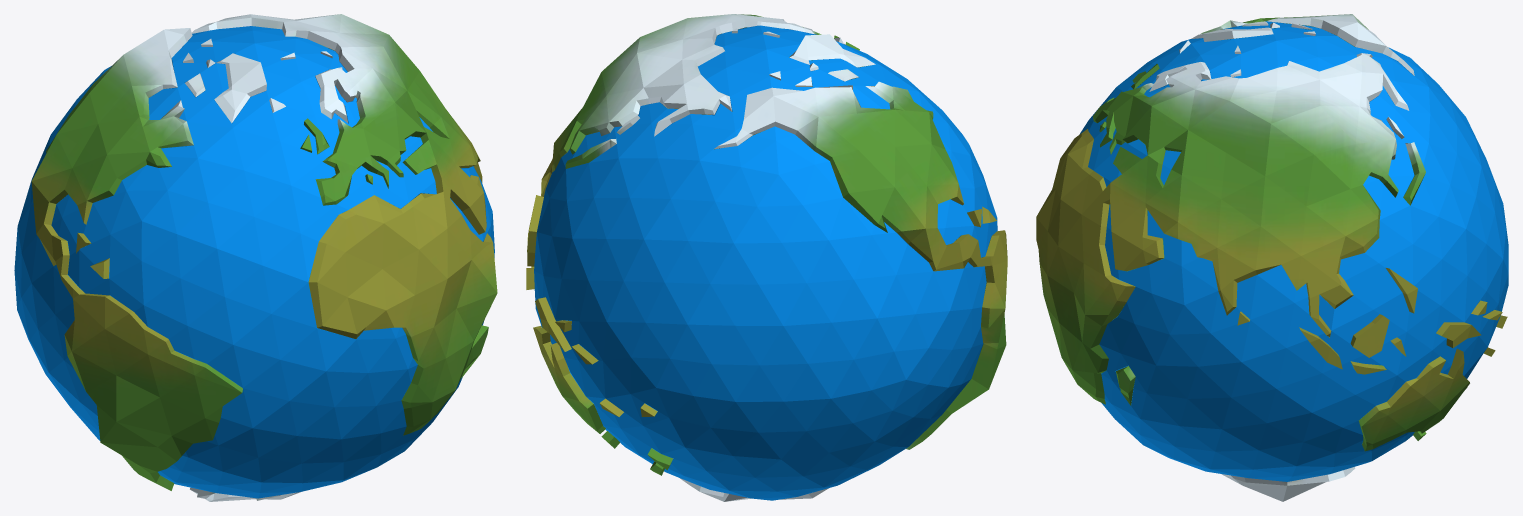
File: earth-transformed.glb
The picture shows the model from 3 angles, left to right: view 1: azimuth 30°, elevation 25°; view 2: azimuth 150°, elevation 25°; view 3: azimuth 270°, elevation 25°; orthographic projection. The views are drawn at different scales.
Parts seen in each view (by area): view 1: earth4_blinn1_0, earth4_lambert1_0; view 2: earth4_blinn1_0, earth4_lambert1_0; view 3: earth4_blinn1_0, earth4_lambert1_0.
Part boxes in pixels (x1,y1,x2,y2): earth4_blinn1_0: (14,26,494,498); earth4_lambert1_0: (31,14,497,501); earth4_blinn1_0: (534,25,997,500); earth4_lambert1_0: (526,14,1007,501); earth4_blinn1_0: (1079,21,1508,481); earth4_lambert1_0: (1036,14,1507,501).
Size of the model in its own units: 17.33 by 17.94 by 17.3.
2 materials, 2 textured.
